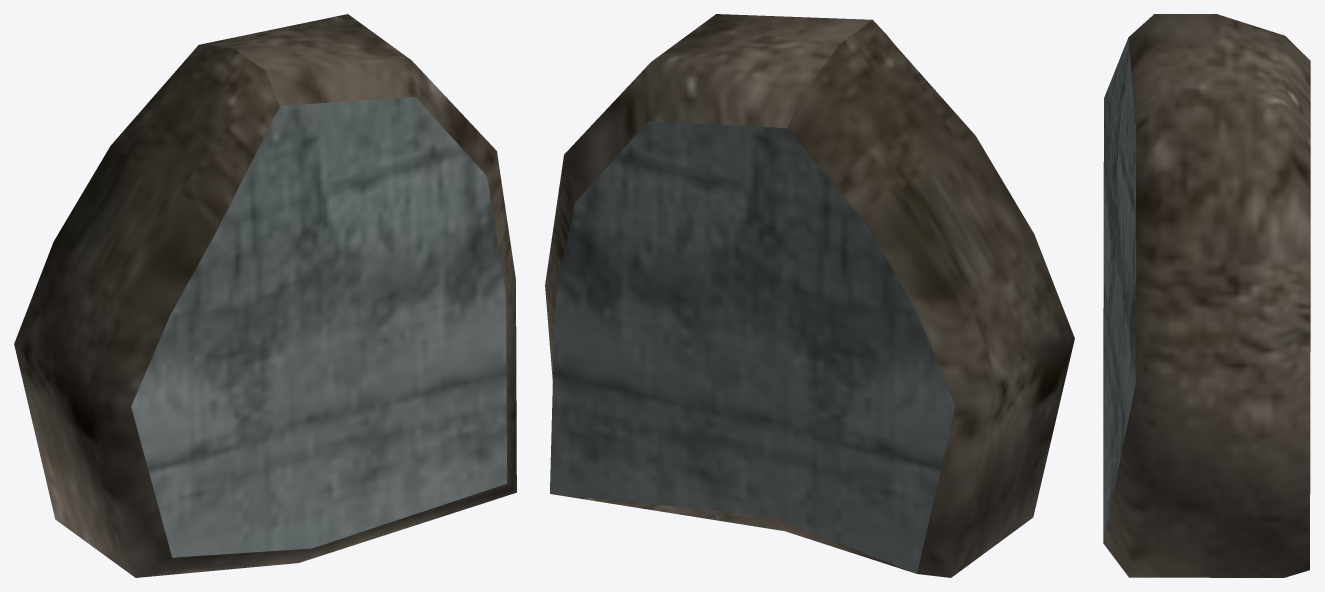
The model's file is gully_bridge_debris_sm01.glb.
3 renders of one model, left to right at view 1: azimuth 30°, elevation 25°; view 2: azimuth 150°, elevation 25°; view 3: azimuth 270°, elevation 25°, orthographic. The views are drawn at different scales.
Bounding box in the file's own units: 37.74 × 40.03 × 16.07.
2 materials, 2 textured.
